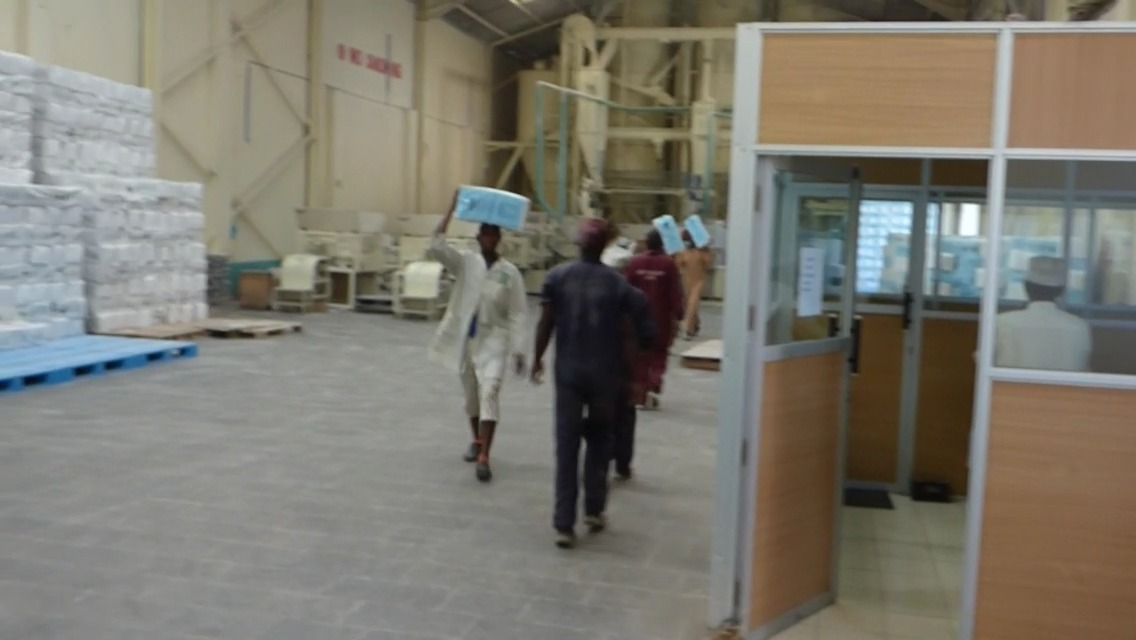wheat_flour_blue_label: (459, 184, 529, 226)
